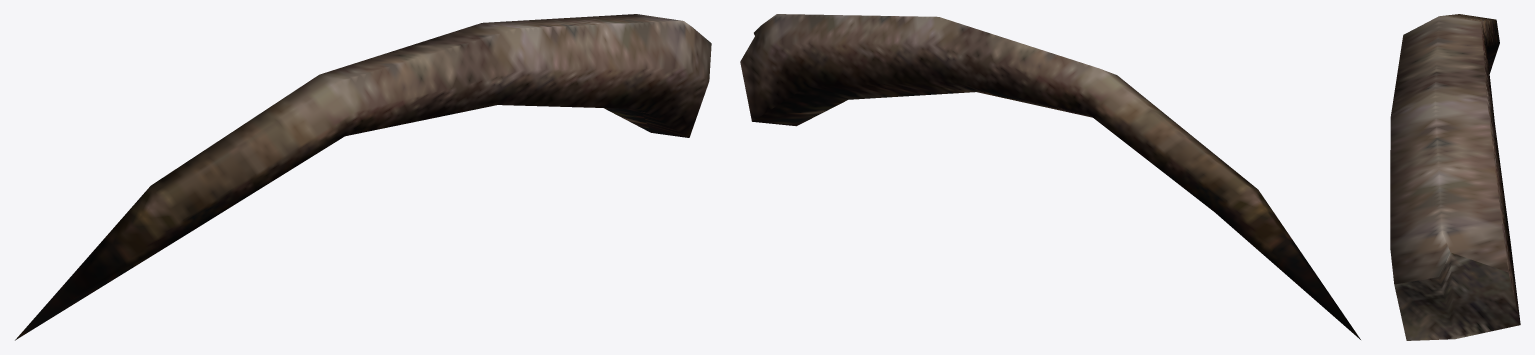
File: ob-11-03-bonetunnel02_10.glb
3 views of the same model, side by side, from view 1: azimuth 30°, elevation 25°; view 2: azimuth 150°, elevation 25°; view 3: azimuth 270°, elevation 25° (orthographic). The views are drawn at different scales.
Parts seen in each view (by area): view 1: Sphere01; view 2: Sphere01; view 3: Sphere01.
Boxes of the visible parts, bbox=[...] form: Sphere01: bbox=[15, 14, 711, 340]; Sphere01: bbox=[740, 14, 1360, 339]; Sphere01: bbox=[1390, 14, 1520, 340].
Size of the model in its own units: 9.32 by 2.82 by 1.4.
1 material, 1 textured.
